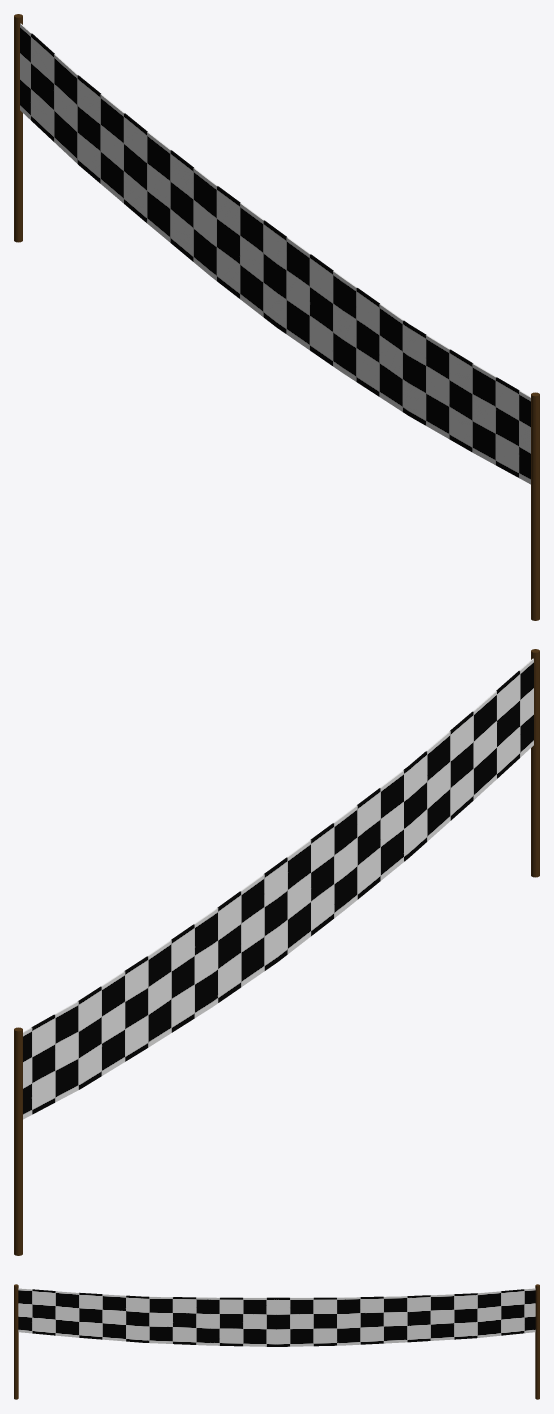
The model's file is finish_line.FBX.
3 views of the same model, one above another, from view 1: azimuth 30°, elevation 25°; view 2: azimuth 150°, elevation 25°; view 3: azimuth 270°, elevation 25° (orthographic). The views are drawn at different scales.
Visible parts, largest first — view 1: Box019, Object002, Object001; view 2: Box019, Object001, Object002; view 3: Box019, Object001, Object002.
Part boxes in pixels (<box>): Box019: <box>20,23,530,484</box>; Object002: <box>531,392,539,620</box>; Object001: <box>14,14,22,242</box>; Box019: <box>23,658,533,1119</box>; Object001: <box>14,1027,22,1255</box>; Object002: <box>531,649,539,877</box>; Box019: <box>18,1288,535,1346</box>; Object001: <box>535,1284,539,1399</box>; Object002: <box>14,1284,18,1399</box>.
Size of the model in its own units: 3.47 by 403 by 95.69.
Materials: 2 (2 with a texture image).
